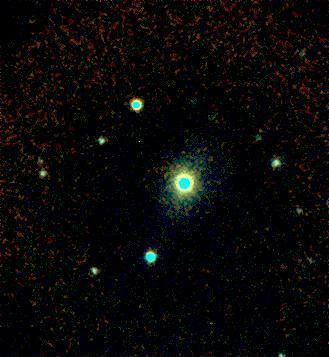star: (245, 115, 275, 145)
